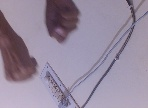hand: (1, 30, 40, 86), (44, 1, 82, 46)
